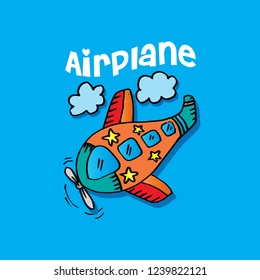airplane: (60, 89, 200, 207)
cloud: (136, 70, 178, 104), (67, 81, 106, 117)
